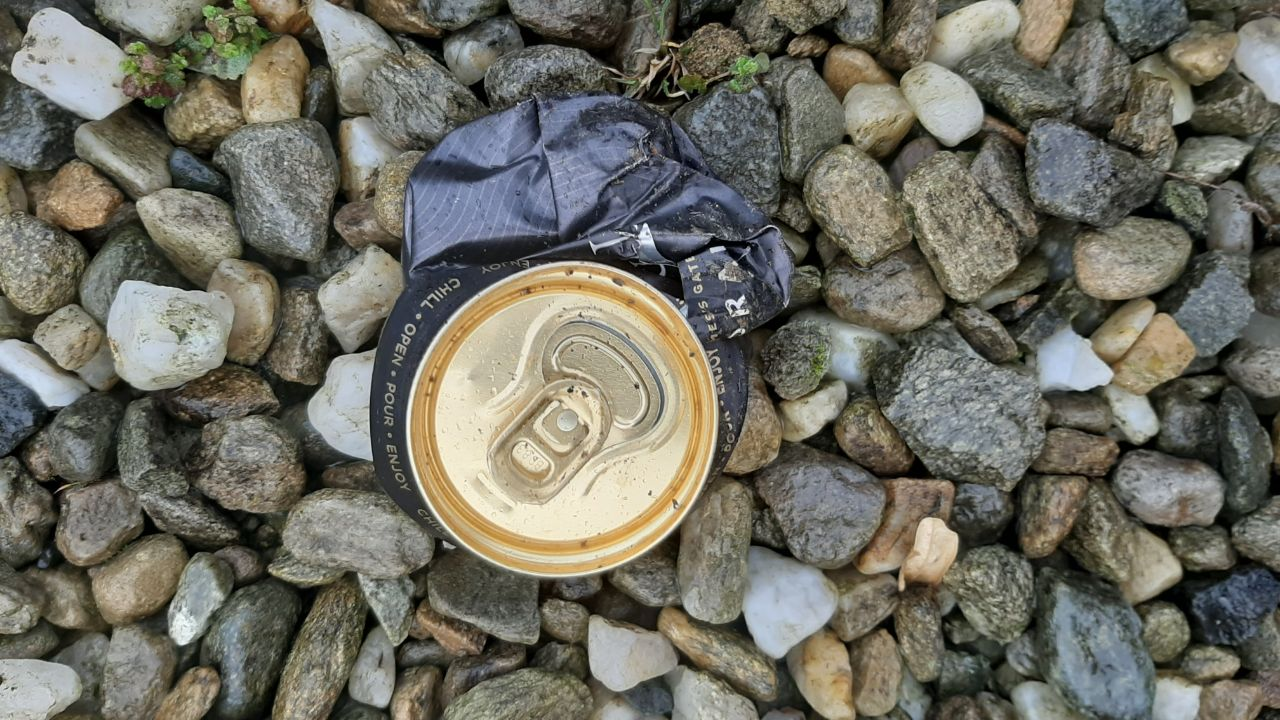Can: (371, 92, 795, 577)
